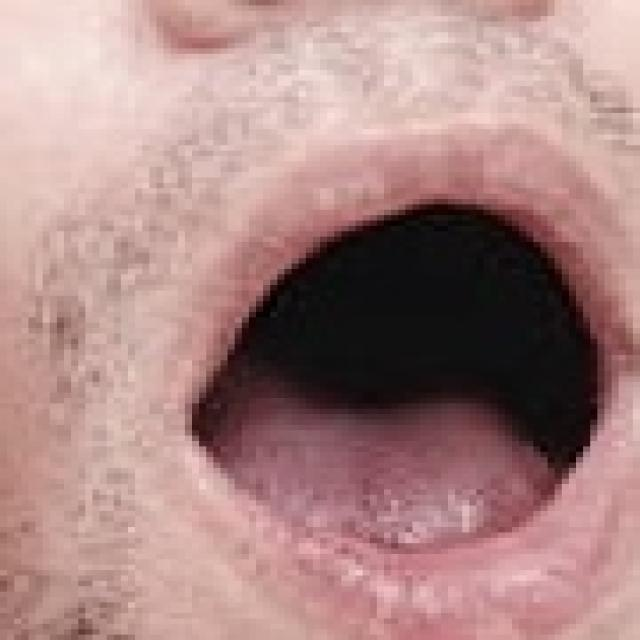open-mouth: (115, 130, 633, 635)
